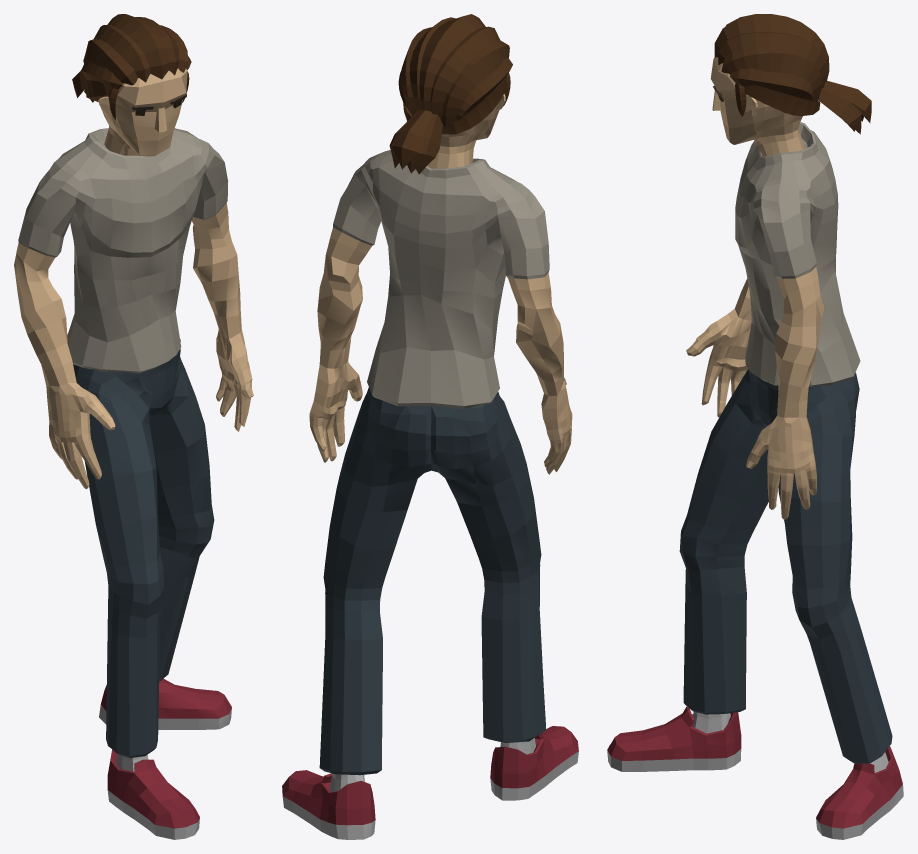
File: quaternius-char-casual.glb
The picture shows the model from 3 angles, left to right: view 1: azimuth 30°, elevation 25°; view 2: azimuth 150°, elevation 25°; view 3: azimuth 270°, elevation 25°; orthographic projection. The views are drawn at different scales.
Visible parts, largest first — view 1: Casual2_Body; view 2: Casual2_Body; view 3: Casual2_Body.
Boxes of the visible parts, left/top/right/bottom form: Casual2_Body: left=14, top=14, right=253, bottom=839; Casual2_Body: left=282, top=14, right=578, bottom=839; Casual2_Body: left=607, top=14, right=903, bottom=839.
Bounding box in the file's own units: 0.5925 × 1.81 × 0.6384.
